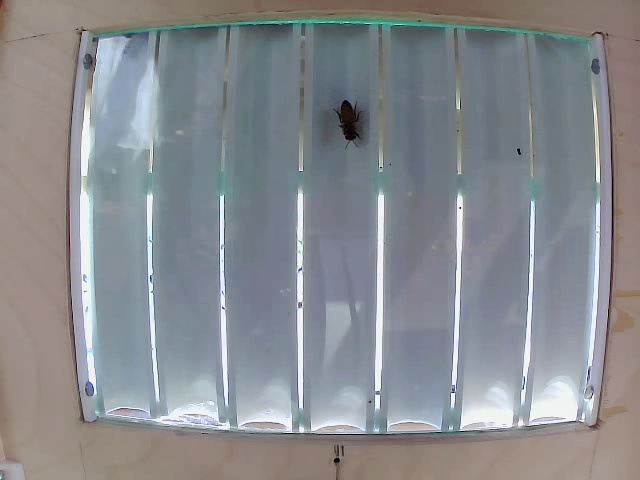bee: (321, 86, 379, 160)
